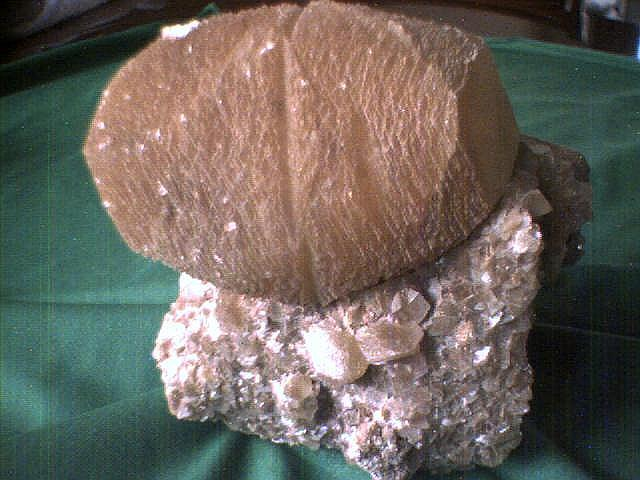calcite: (153, 138, 591, 480)
